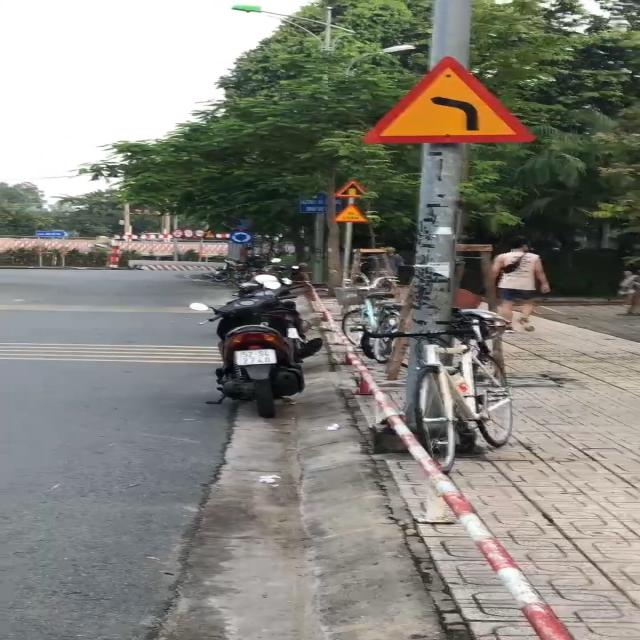Bien bao cho ngoat nguy hiem: (361, 49, 536, 151)
